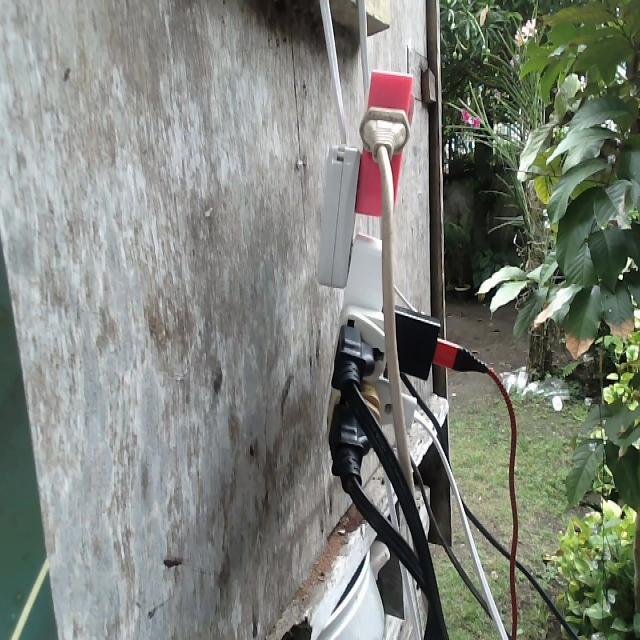-: (313, 64, 443, 489)
